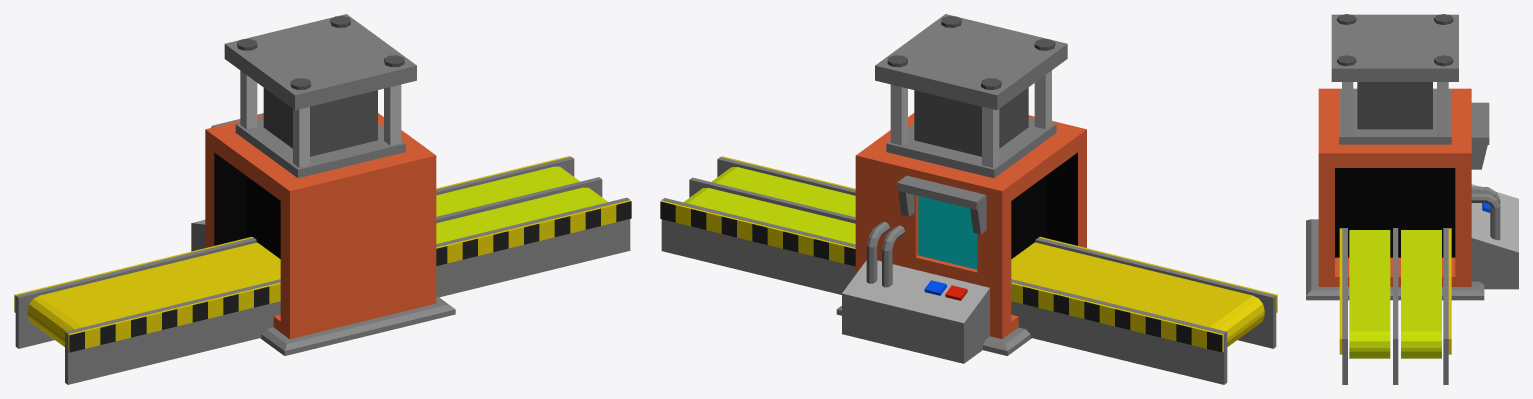
Rendered from NewMachineArm&Leg.fbx.
3 views of the same model, side by side, from view 1: azimuth 30°, elevation 25°; view 2: azimuth 150°, elevation 25°; view 3: azimuth 270°, elevation 25° (orthographic). The views are drawn at different scales.
Parts seen in each view (by area): view 1: Cube.001, Cube.003, line, line.001, line.002; view 2: Cube.001, Cube.003, line, line.002, line.001; view 3: Cube.001, Cube.003, line.001, line.002.
Boxes of the visible parts, bbox=[...] form: Cube.001: bbox=[14, 113, 631, 384]; Cube.003: bbox=[224, 14, 416, 167]; line: bbox=[27, 242, 280, 346]; line.001: bbox=[436, 187, 607, 243]; line.002: bbox=[436, 166, 579, 216]; Cube.001: bbox=[660, 113, 1277, 384]; Cube.003: bbox=[875, 14, 1067, 167]; line: bbox=[1011, 242, 1264, 346]; line.002: bbox=[683, 188, 855, 244]; line.001: bbox=[711, 167, 855, 217]; Cube.001: bbox=[1306, 88, 1518, 384]; Cube.003: bbox=[1331, 14, 1458, 135]; line.001: bbox=[1349, 230, 1390, 358]; line.002: bbox=[1401, 230, 1441, 358].
Bounding box in the file's own units: 916 × 334 × 388.
